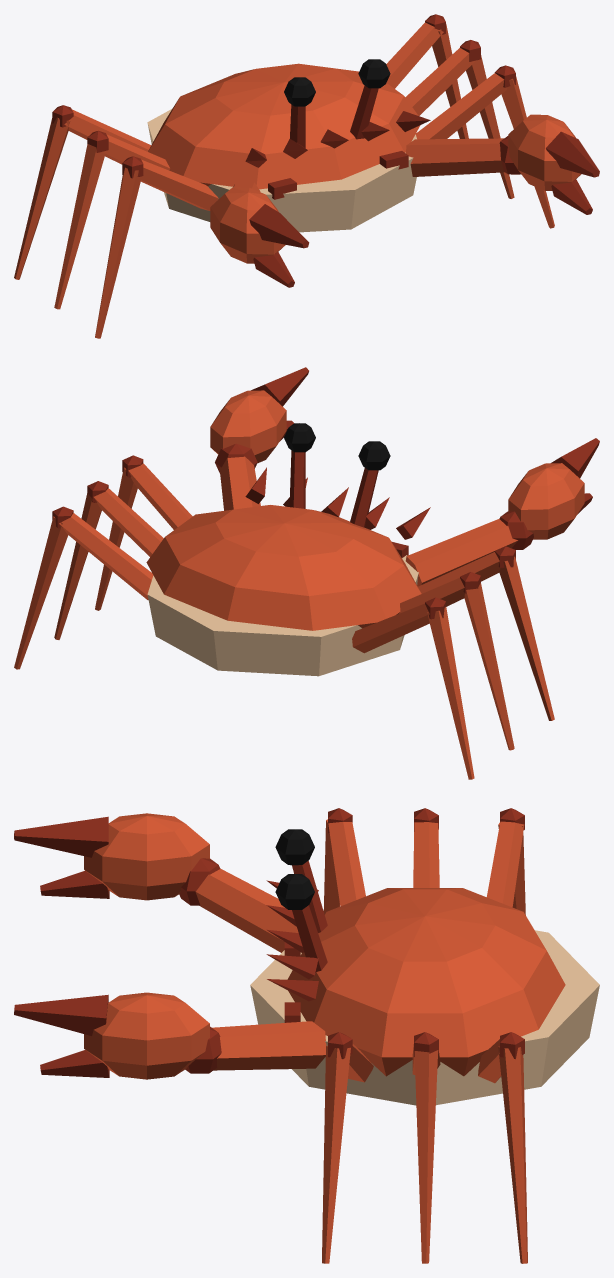
File: Crab.fbx
3 views of the same model, one above another, from view 1: azimuth 30°, elevation 25°; view 2: azimuth 150°, elevation 25°; view 3: azimuth 270°, elevation 25° (orthographic). The views are drawn at different scales.
Visible parts, largest first — view 1: Body, ClawL, ClawR, Leg_R1, Leg_R3, Leg_R2, Leg_L1, Leg_L2, Leg_L3; view 2: Body, ClawR, ClawL, Leg_L3, Leg_R3, Leg_R1, Leg_R2, Leg_L2, Leg_L1; view 3: Body, ClawL, ClawR, Leg_L3, Leg_L1, Leg_L2, Leg_R1, Leg_R3, Leg_R2.
Part boxes in pixels (box(x1,y1,x2,y2)): Body: box(147, 59, 430, 232); ClawL: box(406, 114, 599, 214); ClawR: box(210, 182, 309, 287); Leg_R1: box(95, 156, 218, 338); Leg_R3: box(14, 105, 150, 279); Leg_R2: box(54, 130, 170, 309); Leg_L1: box(415, 65, 554, 228); Leg_L2: box(405, 40, 514, 198); Leg_L3: box(386, 14, 468, 138); Body: box(146, 423, 430, 676); ClawR: box(405, 438, 599, 586); ClawL: box(210, 367, 308, 510); Leg_L3: box(14, 506, 153, 669); Leg_R3: box(352, 597, 474, 779); Leg_R1: box(418, 546, 554, 720); Leg_R2: box(399, 572, 514, 750); Leg_L2: box(54, 481, 163, 639); Leg_L1: box(95, 455, 192, 610); Body: box(250, 829, 599, 1105); ClawL: box(14, 992, 326, 1079); ClawR: box(14, 813, 298, 952); Leg_L3: box(478, 1032, 527, 1263); Leg_L1: box(322, 1032, 373, 1263); Leg_L2: box(412, 1032, 440, 1263); Leg_R1: box(323, 808, 365, 914); Leg_R3: box(487, 808, 525, 915); Leg_R2: box(413, 808, 439, 887).
Bounding box in the file's own units: 2.47 × 1.15 × 2.21.
